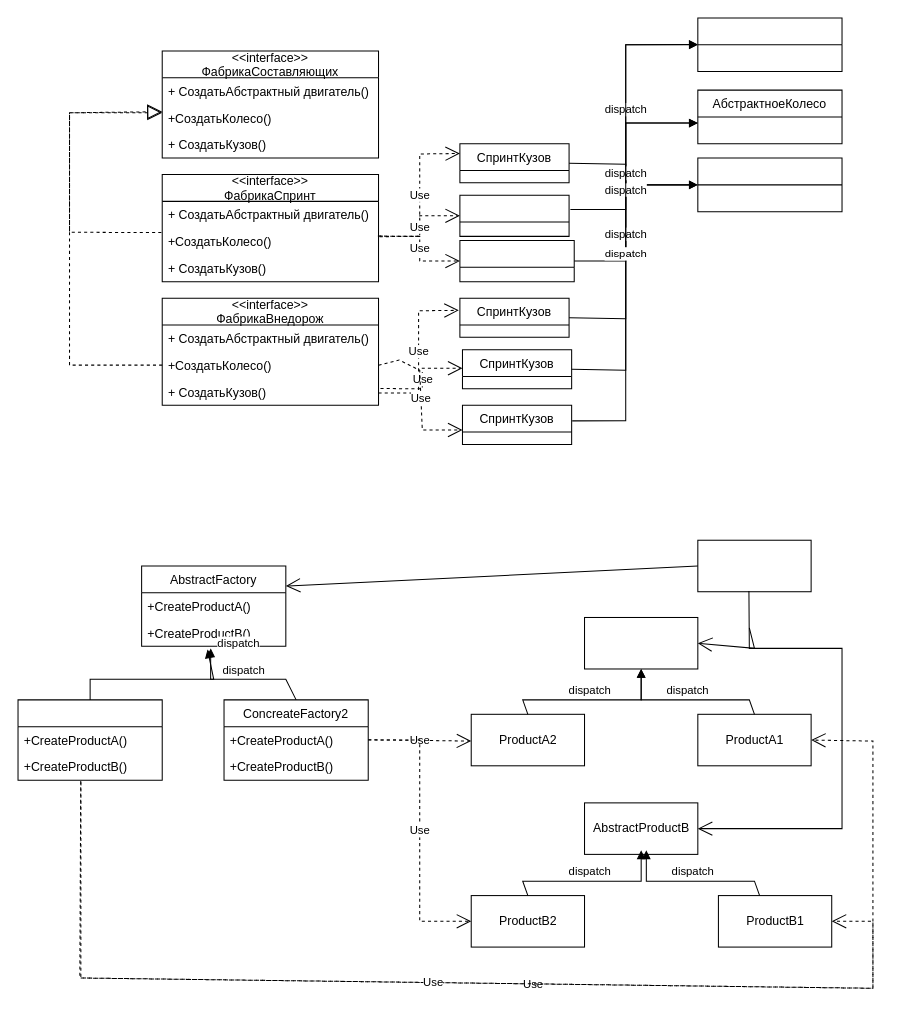
The diagram is 905 pixels wide and 1021 high, and some of its shapes have lost their labels. Here are the shapes that lost their labels. From the top down, the box of each, then its label:
(697, 17, 842, 72): АбстрактныйДвигатель
(697, 157, 842, 212): АбстрактныйКузов
(459, 194, 569, 236): СпринтДвигатель
(459, 239, 574, 282): СпринтКолесо
(697, 539, 811, 592): Client
(583, 616, 698, 669): AbstractProductA
(17, 699, 162, 780): ConcreateFactory1
